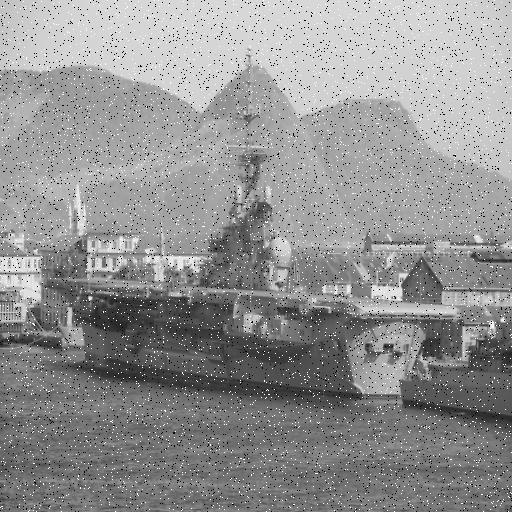Portanaves: (38, 36, 465, 415)
